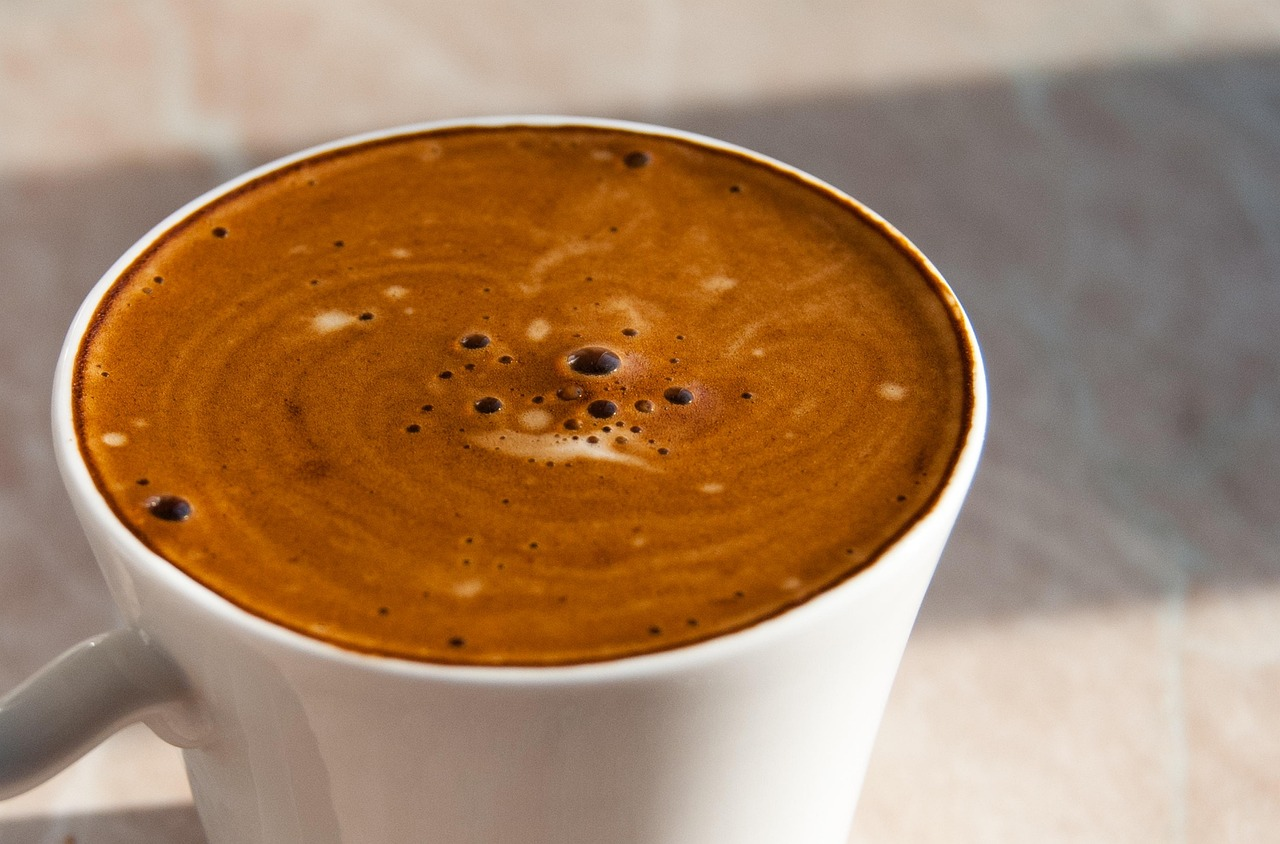mug: (32, 100, 1001, 844)
